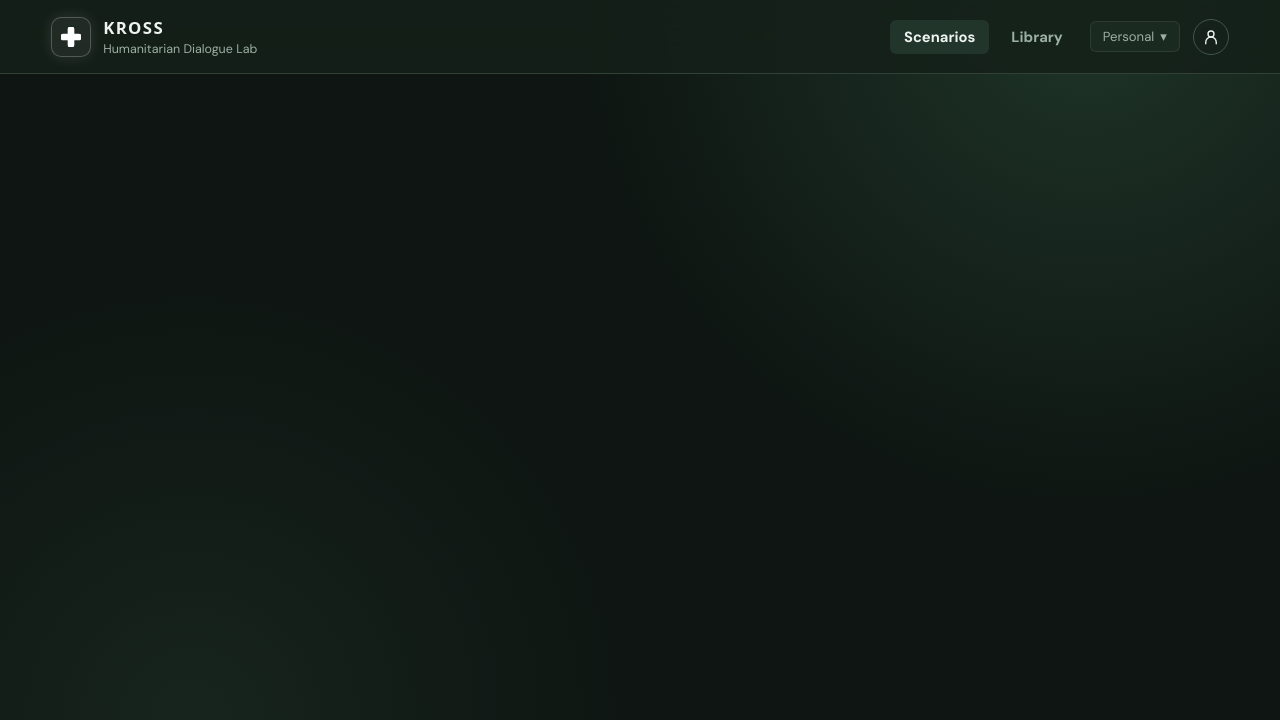
Layout › choosing the active org only closes the popup
What coordinates should you click on to do the following:
click the button with aria-label "Organisation: Personal"
I would click on:
 (1135, 36)
Its box is [1090,21,1180,52].
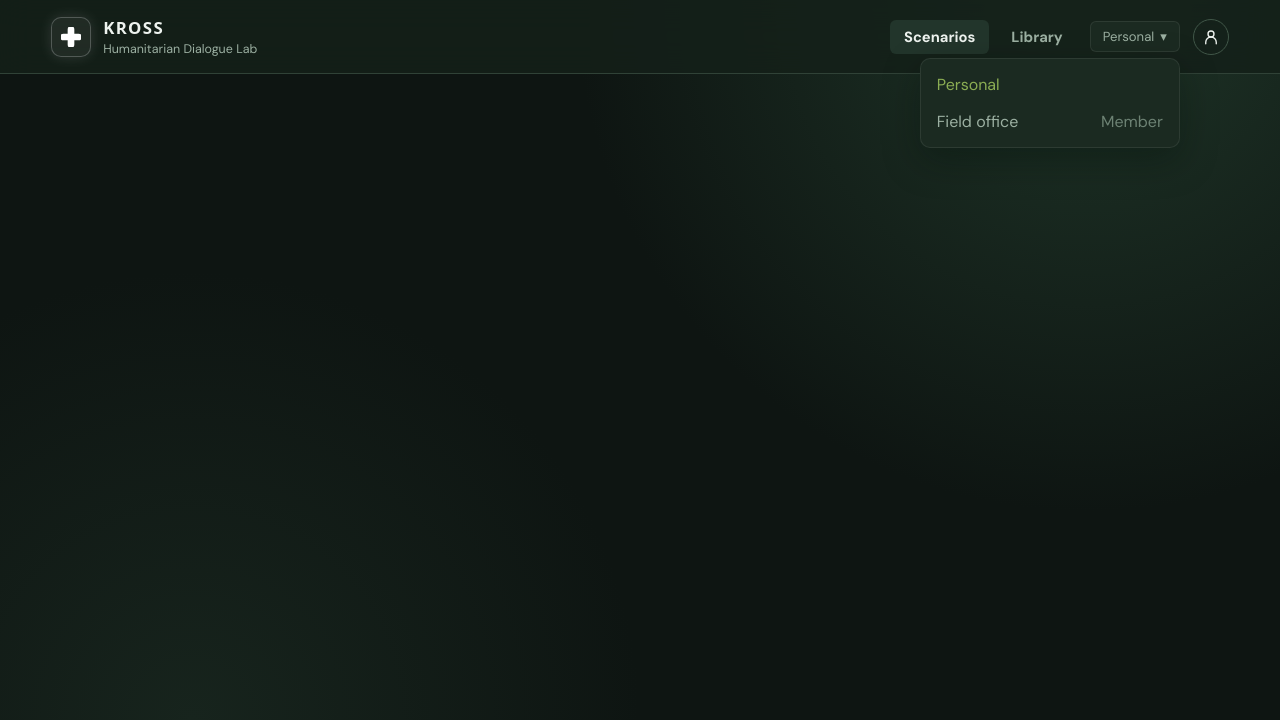
What coordinates should you click on to do the following:
click the button "Personal"
I would click on:
 (1050, 84)
Its box is [929,67,1171,102].
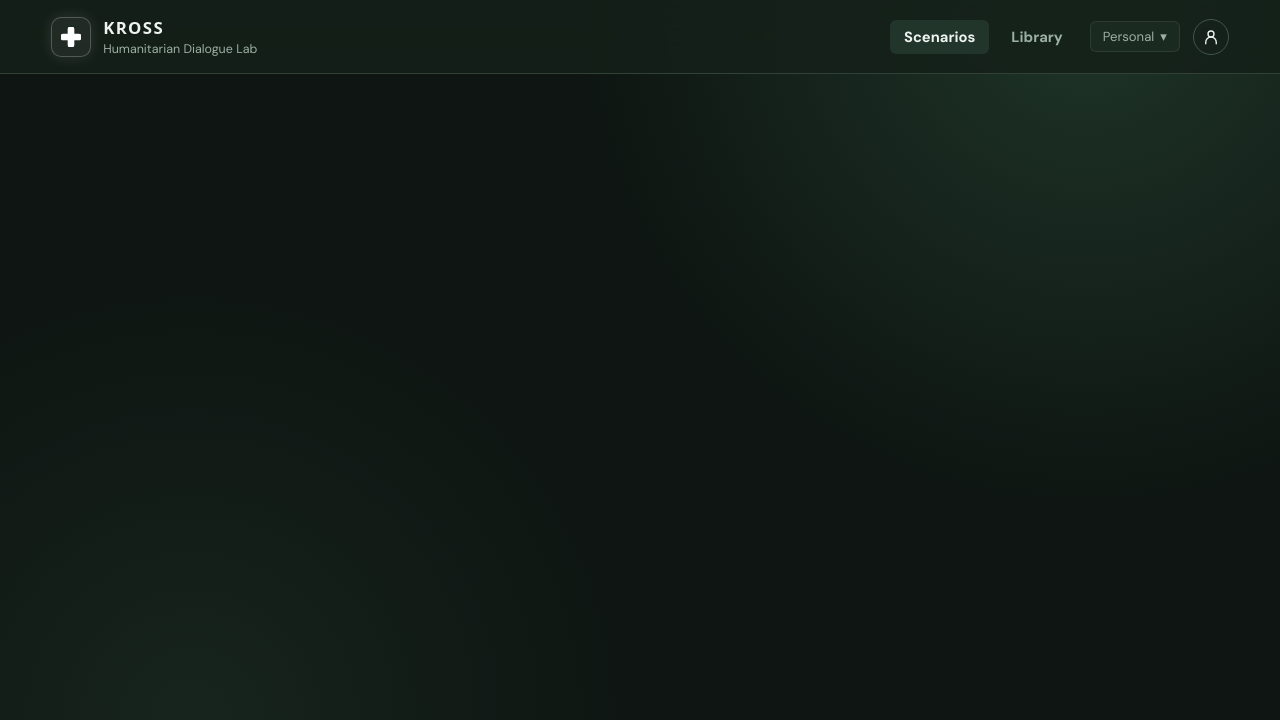
Now the button "Field office Member" is gone
